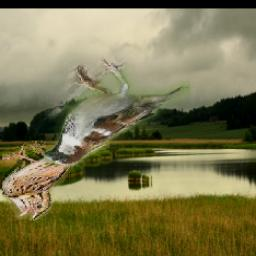Sparrow: (44, 57, 190, 166), (2, 141, 109, 220)
